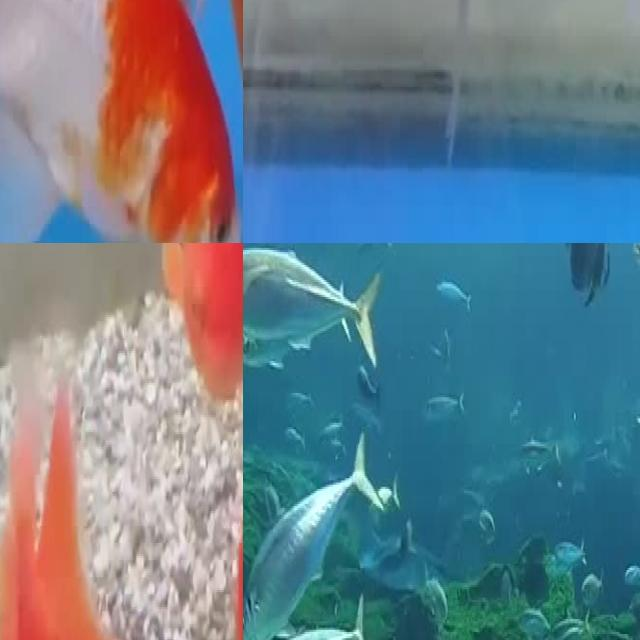fish: (0, 0, 243, 243), (0, 342, 158, 640), (243, 248, 385, 374)
